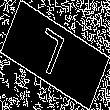L_SW: (35, 26, 75, 84)
